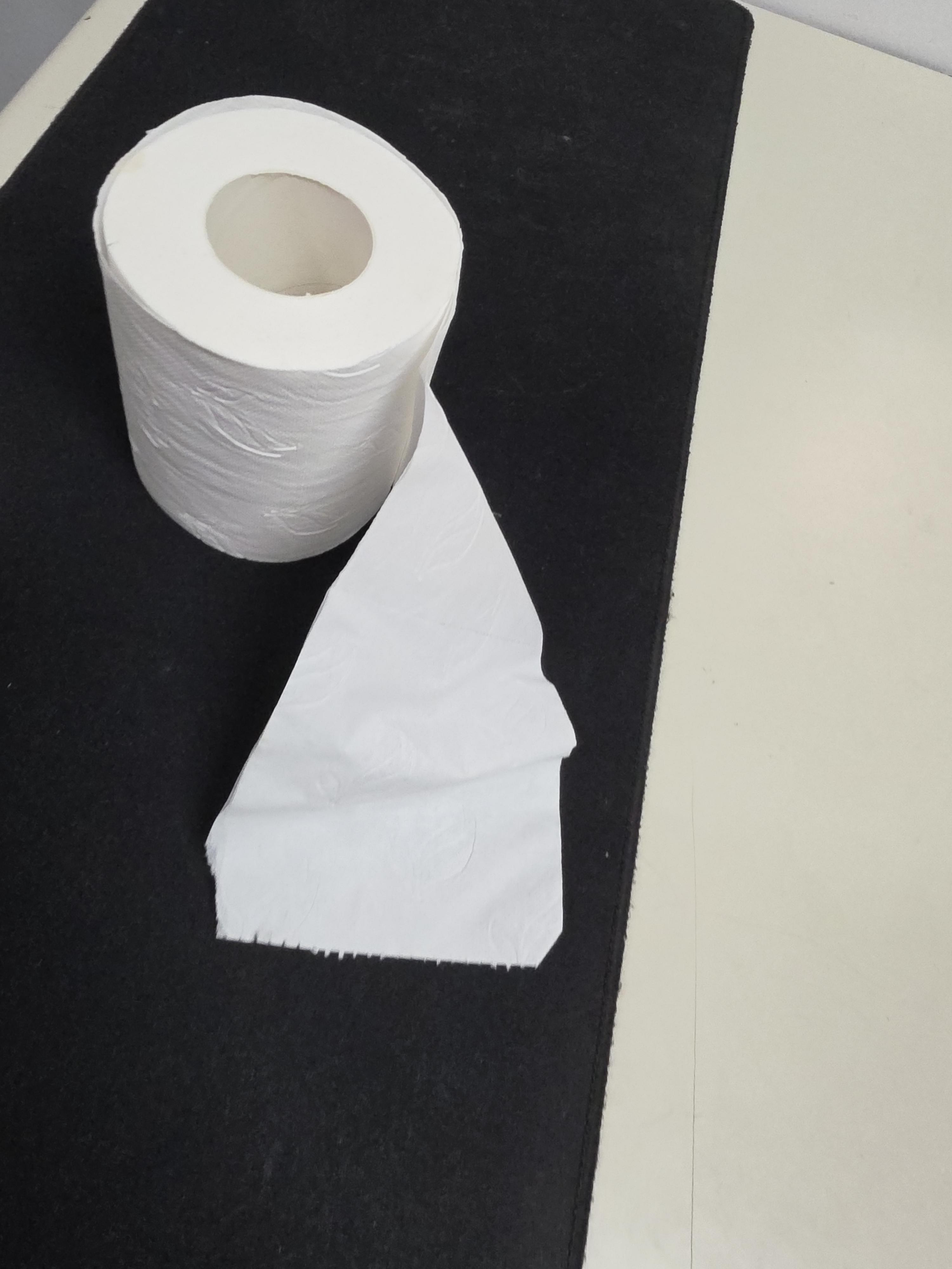tissue: (93, 95, 577, 970)
